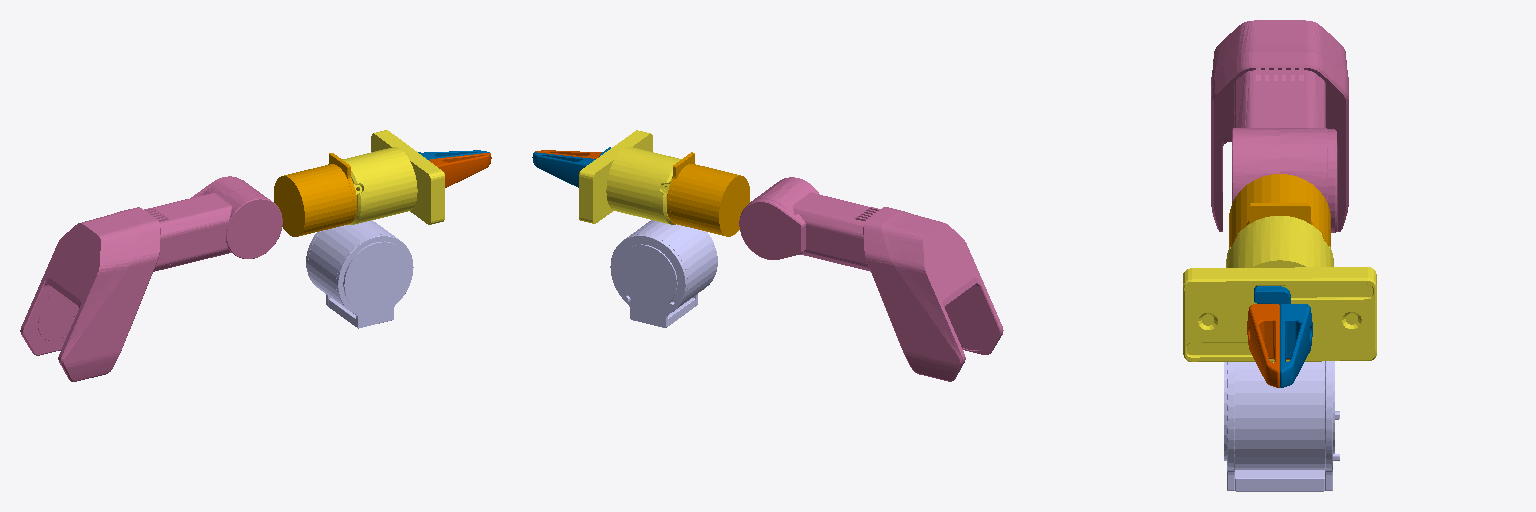
robot.urdf — a1y:
<?xml version="1.0" ?>
<!-- =================================================================================== -->
<!-- |    This document was autogenerated by xacro from robot.xacro                    | -->
<!-- |    EDITING THIS FILE BY HAND IS NOT RECOMMENDED                                 | -->
<!-- =================================================================================== -->
<robot name="a1y">
  <link name="base_link">
    <inertial>
      <origin rpy="0 0 0" xyz="0.00303246421307354 -0.000695340443194854 0.0297996781638517"/>
      <mass value="0.786"/>
      <inertia ixx="0.000209631286775999" ixy="1.3987766340865E-06" ixz="5.68764766805313E-06" iyy="0.000199785107628426" iyz="-3.65982104907021E-06" izz="0.000237444184695321"/>
    </inertial>
    <visual>
      <geometry>
        <mesh filename="package://a1xy_description/meshes/xy_base/base_link.obj"/>
      </geometry>
    </visual>
    <collision>
      <geometry>
        <mesh filename="package://a1xy_description/meshes/xy_base/base_link.obj"/>
      </geometry>
    </collision>
  </link>
  <link name="arm_link1">
    <inertial>
      <origin rpy="0 0 0" xyz="4.1065175135883E-07 -0.00198628171247454 0.0468863413356551"/>
      <mass value="0.839"/>
      <inertia ixx="0.000224135392915726" ixy="-1.28206810172038E-09" ixz="7.50235402650185E-09" iyy="0.00026979982869931" iyz="7.49527197322758E-09" izz="0.000218724360467532"/>
    </inertial>
    <visual>
      <origin rpy="0 0 0" xyz="0 0 0"/>
      <geometry>
        <mesh filename="package://a1xy_description/meshes/xy_base/link1.obj"/>
      </geometry>
      <material name="">
        <color rgba="0.823529411764706 0.823529411764706 1 1"/>
      </material>
    </visual>
    <collision>
      <origin rpy="0 0 0" xyz="0 0 0"/>
      <geometry>
        <mesh filename="package://a1xy_description/meshes/xy_base/link1.obj"/>
      </geometry>
    </collision>
  </link>
  <joint name="arm_joint1" type="revolute">
    <origin rpy="0 0 0" xyz="0 0 0.08605"/>
    <parent link="base_link"/>
    <child link="arm_link1"/>
    <axis xyz="0 0 1"/>
    <limit effort="27" lower="-2.879795" upper="2.879795" velocity="10.4720"/>
  </joint>
  <link name="arm_link2">
    <inertial>
      <origin rpy="0 0 0" xyz="-0.122673818397923 -0.0295401461831619 0.00364838977156251"/>
      <mass value="1.09"/>
      <inertia ixx="0.000388311522528777" ixy="-2.18086613093501E-05" ixz="8.77434895649448E-06" iyy="0.00274683151904258" iyz="1.19756607314247E-06" izz="0.00278055331308976"/>
    </inertial>
    <visual>
      <origin rpy="0 0 0" xyz="0 0 0"/>
      <geometry>
        <mesh filename="package://a1xy_description/meshes/xy_base/link2.obj"/>
      </geometry>
      <material name="">
        <color rgba="0.823529411764706 0.823529411764706 1 1"/>
      </material>
    </visual>
    <collision>
      <origin rpy="0 0 0" xyz="0 0 0"/>
      <geometry>
        <mesh filename="package://a1xy_description/meshes/xy_base/link2.obj"/>
      </geometry>
    </collision>
  </link>
  <joint name="arm_joint2" type="revolute">
    <origin rpy="0 0 0" xyz="0 0.03075 0.04925"/>
    <parent link="arm_link1"/>
    <child link="arm_link2"/>
    <axis xyz="0 1 0"/>
    <limit effort="50" lower="0" upper="3.1416" velocity="12.5664"/>
  </joint>
  <link name="gripper_link">
    <inertial>
      <origin xyz="-0.0311072323899603 1.17979991887118E-08 7.93394685505433E-08"/>
      <mass value="0.604"/>
      <inertia ixx="0.000175881544189539" ixy="-6.06026450851008E-11" ixz="5.30643405624365E-10" iyy="9.86379407701341E-05" iyz="-8.18686692495892E-08" izz="0.000165121280580029"/>
    </inertial>
    <visual>
      <geometry>
        <mesh filename="package://a1xy_description/meshes/gripper/gripper_link.obj"/>
      </geometry>
    </visual>
    <collision>
      <geometry>
        <mesh filename="package://a1xy_description/meshes/gripper/gripper_link.obj"/>
      </geometry>
    </collision>
  </link>
  <joint name="gripper_joint" type="fixed">
    <origin xyz="0.08165 0 0"/>
    <parent link="arm_link6"/>
    <child link="gripper_link"/>
    <axis xyz="0 0 0"/>
  </joint>
  <link name="gripper_finger_link1">
    <inertial>
      <origin xyz="-0.0195895895552112 -0.0151136845490034 0.00542254359093075"/>
      <mass value="0.027"/>
      <inertia ixx="2.40569358477209E-06" ixy="3.9898459609048E-07" ixz="5.12152762183641E-08" iyy="5.71079298307516E-06" iyz="6.19467902008363E-08" izz="6.48482183930358E-06"/>
    </inertial>
    <visual>
      <geometry>
        <mesh filename="package://a1xy_description/meshes/gripper/gripper_finger1.obj"/>
      </geometry>
    </visual>
    <collision>
      <geometry>
        <mesh filename="package://a1xy_description/meshes/gripper/gripper_finger1.obj"/>
      </geometry>
    </collision>
  </link>
  <joint name="gripper_finger_joint1" type="prismatic">
    <origin xyz="0.03689 0.013453 0.00012059"/>
    <parent link="gripper_link"/>
    <child link="gripper_finger_link1"/>
    <axis xyz="0 1 0"/>
    <limit effort="100" lower="0" upper="0.05" velocity="0.25"/>
  </joint>
  <link name="gripper_finger_link2">
    <inertial>
      <origin xyz="-0.0195895857999098 0.0151136893508115 -0.00542254357246619"/>
      <mass value="0.027"/>
      <inertia ixx="2.40569340151687E-06" ixy="-3.98983784827124E-07" ixz="-5.12152683073981E-08" iyy="5.71079321589929E-06" iyz="6.19467953006536E-08" izz="6.48482187274222E-06"/>
    </inertial>
    <visual>
      <geometry>
        <mesh filename="package://a1xy_description/meshes/gripper/gripper_finger2.obj"/>
      </geometry>
    </visual>
    <collision>
      <geometry>
        <mesh filename="package://a1xy_description/meshes/gripper/gripper_finger2.obj"/>
      </geometry>
    </collision>
  </link>
  <joint name="gripper_finger_joint2" type="prismatic">
    <origin xyz="0.03689 -0.013453 -0.00012059"/>
    <parent link="gripper_link"/>
    <child link="gripper_finger_link2"/>
    <axis xyz="0 -1 0"/>
    <limit effort="100" lower="0" upper="0.05" velocity="0.25"/>
    <mimic joint="gripper_finger_joint1" multiplier="1" offset="0"/>
  </joint>
  <link name="arm_link3">
    <inertial>
      <origin xyz="0.0566624793223791 -0.0291316466078999 0.0568018844686509"/>
      <mass value="0.739"/>
      <inertia ixx="0.000257907545256439" ixy="1.02695451350475E-05" ixz="-0.000131693719602983" iyy="0.000671352233244435" iyz="-8.03382534299068E-06" izz="0.000550051611056369"/>
    </inertial>
    <visual>
      <geometry>
        <mesh filename="package://a1xy_description/meshes/x_link/link3.obj"/>
      </geometry>
    </visual>
    <collision>
      <geometry>
        <mesh filename="package://a1xy_description/meshes/x_link/link3.obj"/>
      </geometry>
    </collision>
  </link>
  <joint name="arm_joint3" type="revolute">
    <origin rpy="0 0 0" xyz="-0.3 0.00025004 0"/>
    <parent link="arm_link2"/>
    <child link="arm_link3"/>
    <axis xyz="0 1 0"/>
    <limit effort="27" lower="-3.3161" upper="0" velocity="10.472"/>
  </joint>
  <link name="arm_link4">
    <inertial>
      <origin xyz="0.0699840030193581 -0.0287504697364447 0.0541968318197228"/>
      <mass value="0.419"/>
      <inertia ixx="6.62006896114572E-05" ixy="-9.3635648969069E-09" ixz="-4.25876556256057E-09" iyy="6.79307239443371E-05" iyz="7.77726883989867E-07" izz="6.69265447808637E-05"/>
    </inertial>
    <visual>
      <geometry>
        <mesh filename="package://a1xy_description/meshes/x_link/link4.obj"/>
      </geometry>
    </visual>
    <collision>
      <geometry>
        <mesh filename="package://a1xy_description/meshes/x_link/link4.obj"/>
      </geometry>
    </collision>
  </link>
  <joint name="arm_joint4" type="revolute">
    <origin rpy="0 0 0" xyz="0.1747 0.00049739 0.075485"/>
    <parent link="arm_link3"/>
    <child link="arm_link4"/>
    <axis xyz="0 1 0"/>
    <limit effort="14" lower="-1.5708" upper="1.5708" velocity="32.9867"/>
  </joint>
  <link name="arm_link5">
    <inertial>
      <origin xyz="-0.000803198983898074 -2.29028914278118E-07 -0.0402656141956459"/>
      <mass value="0.054"/>
      <inertia ixx="5.80420988761095E-05" ixy="-1.94657864482709E-13" ixz="1.11613844426808E-14" iyy="5.76397557796697E-05" iyz="-3.56183851121823E-11" izz="5.68558379713068E-05"/>
    </inertial>
    <visual>
      <geometry>
        <mesh filename="package://a1xy_description/meshes/x_link/link5.obj"/>
      </geometry>
    </visual>
    <collision>
      <geometry>
        <mesh filename="package://a1xy_description/meshes/x_link/link5.obj"/>
      </geometry>
    </collision>
  </link>
  <joint name="arm_joint5" type="revolute">
    <origin rpy="0 0 0" xyz="0.08 -0.031498 0.0405"/>
    <parent link="arm_link4"/>
    <child link="arm_link5"/>
    <axis xyz="0 0 1"/>
    <limit effort="14" lower="-1.5708" upper="1.5708" velocity="32.9867"/>
  </joint>
  <link name="arm_link6">
    <inertial>
      <origin xyz="0.00709944426961403 -8.90673146347609E-10 -3.82632235882419E-05"/>
      <mass value="0.031"/>
      <inertia ixx="3.44527427683917E-06" ixy="-2.00656296989553E-13" ixz="-1.26136975189559E-09" iyy="1.82572780689222E-06" iyz="-3.95364679222355E-15" izz="1.81730990577526E-06"/>
    </inertial>
    <visual>
      <geometry>
        <mesh filename="package://a1xy_description/meshes/link6.obj"/>
      </geometry>
    </visual>
    <collision>
      <geometry>
        <mesh filename="package://a1xy_description/meshes/link6.obj"/>
      </geometry>
    </collision>
  </link>
  <joint name="arm_joint6" type="revolute">
    <origin rpy="0 0 0" xyz="0.022503 0 -0.0405"/>
    <parent link="arm_link5"/>
    <child link="arm_link6"/>
    <axis xyz="1 0 0"/>
    <limit effort="14" lower="-2.8798" upper="2.8798" velocity="32.9867"/>
  </joint>
</robot>

--- Render facts (derived) ---
The picture shows the robot from 3 angles, left to right: view 1: azimuth 30°, elevation 25°; view 2: azimuth 150°, elevation 25°; view 3: azimuth 270°, elevation 25°; orthographic projection.
Model a1y with 10 links and 9 joints (6 revolute, 2 prismatic, 1 fixed), rooted at base_link, posed all joints at 0.
Links seen in each view (by area): view 1: arm_link3, arm_link1, gripper_link, arm_link5, gripper_finger_link2; view 2: arm_link3, arm_link1, gripper_link, arm_link5, gripper_finger_link1; view 3: arm_link3, gripper_link, arm_link1, arm_link5, gripper_finger_link1, gripper_finger_link2.
Boxes of the visible links, x1,y1,x2,y2 form: arm_link3: (20, 176, 282, 381); arm_link1: (306, 220, 413, 328); gripper_link: (342, 130, 444, 224); arm_link5: (274, 153, 356, 236); gripper_finger_link2: (430, 153, 491, 187); arm_link3: (739, 177, 1003, 381); arm_link1: (610, 220, 717, 327); gripper_link: (579, 130, 681, 224); arm_link5: (667, 152, 749, 236); gripper_finger_link1: (532, 147, 610, 187); arm_link3: (1211, 20, 1348, 232); gripper_link: (1183, 216, 1376, 361); arm_link1: (1224, 361, 1339, 491); arm_link5: (1229, 174, 1330, 246); gripper_finger_link1: (1254, 286, 1312, 387); gripper_finger_link2: (1247, 304, 1289, 387).
Bounding box of the posed robot: 0.4714 × 0.1083 × 0.158 m (x, y, z).
Meshes: 10 distinct files referenced, 6 mesh visuals loaded (6 OBJ); not drawn: 4 (reference not matched to a file when rendering).
